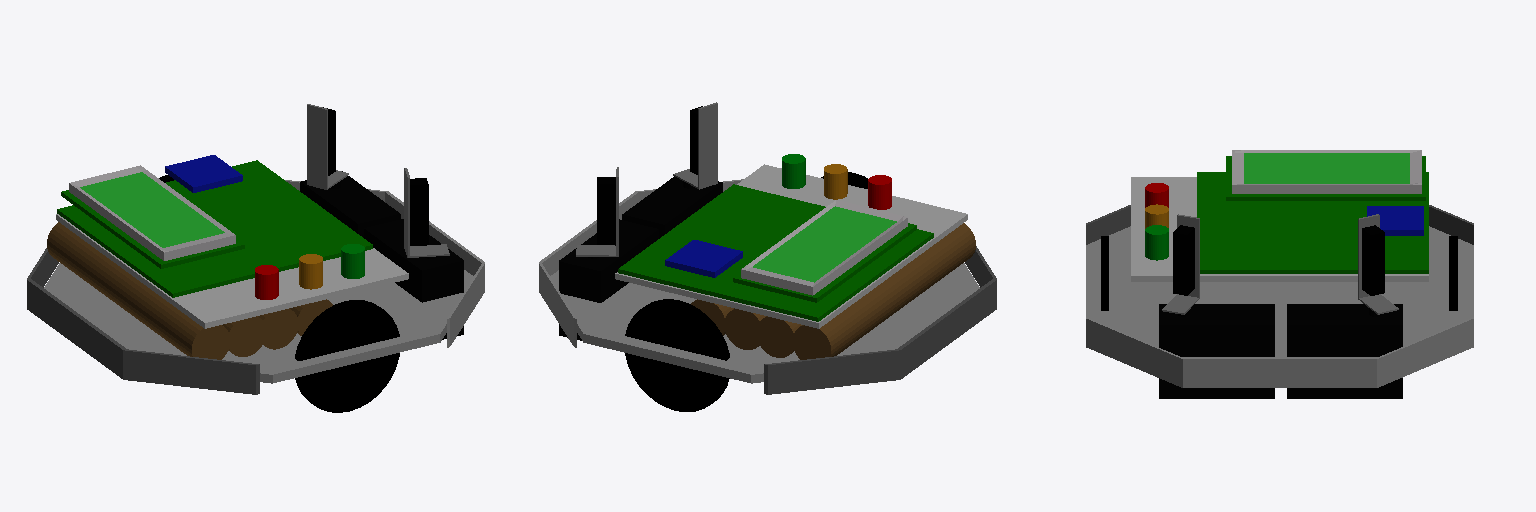
The model's file is robolaus.obj.
3 renders of one model, left to right at view 1: azimuth 30°, elevation 25°; view 2: azimuth 150°, elevation 25°; view 3: azimuth 270°, elevation 25°, orthographic.
Visible parts, largest first — view 1: Plane.010, Plane, Plane.012, Plane.002, Circle, Plane.009, Circle.005, Plane.003, Plane.004, Plane.001, Plane.005, Plane.013 (+9 smaller); view 2: Plane.010, Plane, Plane.012, Plane.002, Circle.001, Circle.005, Plane.009, Plane.004, Plane.003, Plane.001, Plane.008, Plane.013 (+9 smaller); view 3: Plane, Plane.010, Plane.001, Plane.012, Plane.003, Plane.004, Plane.009, Plane.002, Plane.011, Plane.006, Plane.007, Plane.013 (+5 smaller).
Part boxes in pixels (x1,y1,x2,y2): Plane.010: (57,160,372,297); Plane: (44,263,473,383); Plane.012: (69,165,235,260); Plane.002: (27,248,259,394); Circle: (295,300,399,412); Plane.009: (56,214,408,328); Circle.005: (47,222,228,359); Plane.003: (364,219,463,339); Plane.004: (300,171,400,237); Plane.001: (285,180,484,347); Plane.005: (307,104,348,189); Plane.013: (165,155,242,192); Plane.010: (618,184,933,321); Plane: (550,263,979,383); Plane.012: (741,200,907,295); Plane.002: (764,246,996,394); Circle.001: (625,299,729,411); Circle.005: (792,223,975,359); Plane.009: (615,164,967,328); Plane.004: (559,219,658,340); Plane.003: (622,176,722,238); Plane.001: (539,179,743,347); Plane.008: (673,102,717,189); Plane.013: (665,240,742,277); Plane: (1086,226,1473,357); Plane.010: (1197,172,1428,273); Plane.001: (1086,317,1473,387); Plane.012: (1232,150,1421,193); Plane.003: (1159,304,1274,398); Plane.004: (1287,304,1402,398); Plane.009: (1131,177,1428,281); Plane.002: (1086,205,1473,244); Plane.011: (1226,156,1425,200); Plane.006: (1362,225,1384,295); Plane.007: (1173,225,1194,295); Plane.013: (1367,206,1423,235).
Size of the model in its own units: 6.55 by 3.14 by 6.07.